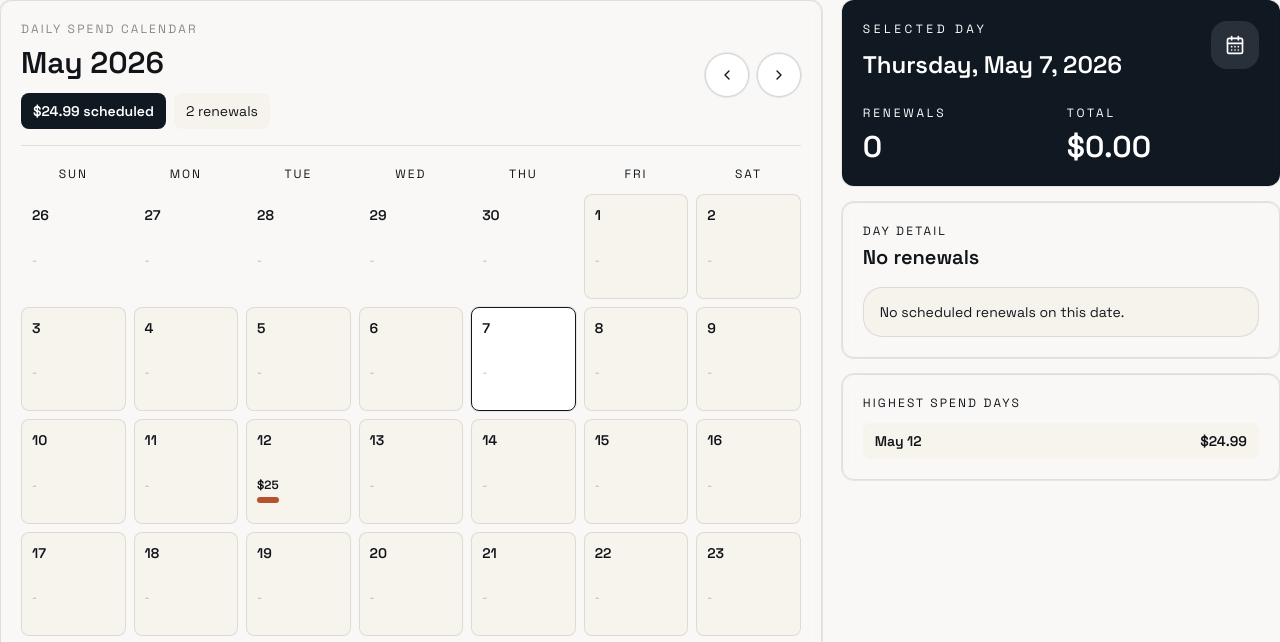
Test: CalendarWorkspace › shows the selected-day popover and detail list
Click the button named "May 12: 2 renewals" at (298, 471), box 246,419 -> 351,524
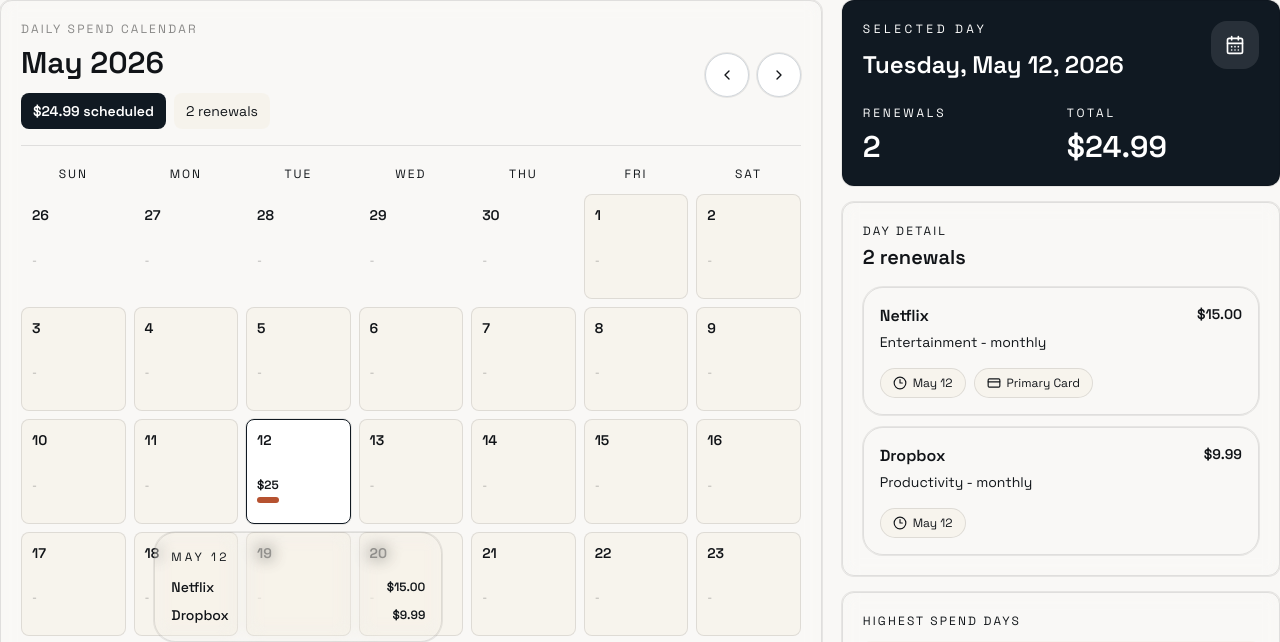
expect the 2nd text "Netflix" is shown: met, box 171,577 -> 214,597
expect the 2nd text "$15.00" is shown: met, box 387,579 -> 425,595
expect the heading "2 renewals" is shown: met, box 863,243 -> 966,271
